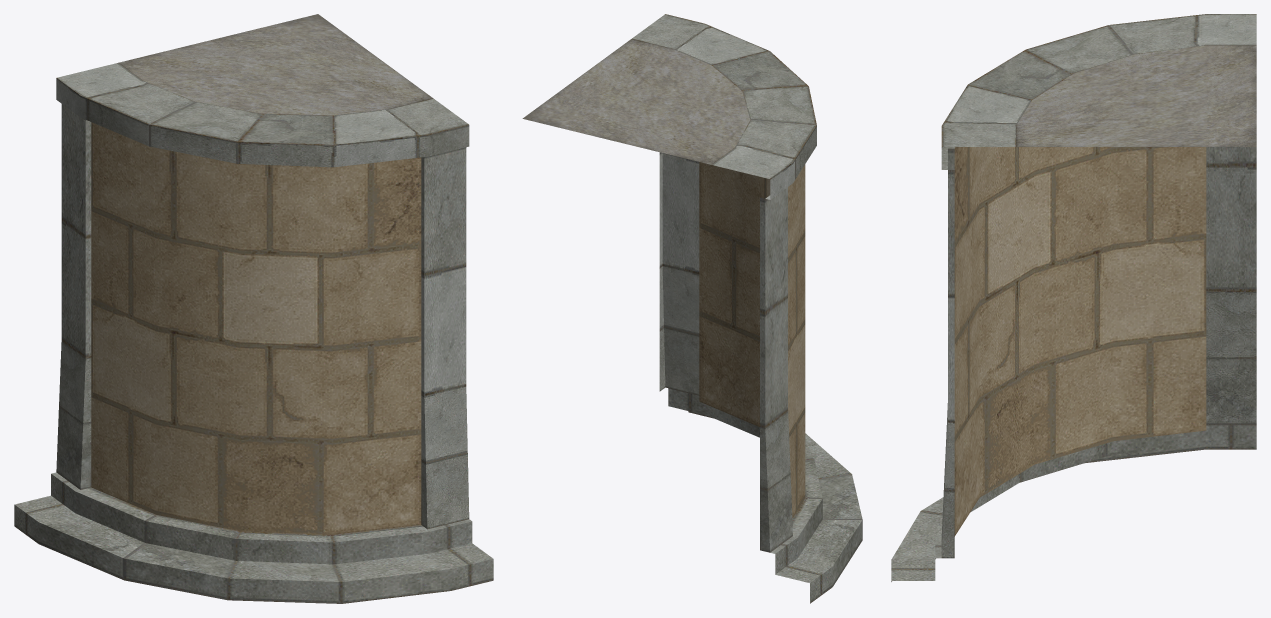
File: block_rnd_crn_1x1.fbx
3 views of the same model, side by side, from view 1: azimuth 30°, elevation 25°; view 2: azimuth 150°, elevation 25°; view 3: azimuth 270°, elevation 25° (orthographic). The views are drawn at different scales.
Visible parts, largest first — view 1: block_rnd_crn_1x1; view 2: block_rnd_crn_1x1; view 3: block_rnd_crn_1x1.
Part boxes in pixels (x1,y1,x2,y2): block_rnd_crn_1x1: [14, 14, 493, 603]; block_rnd_crn_1x1: [522, 14, 862, 603]; block_rnd_crn_1x1: [891, 14, 1256, 581].
Size of the model in its own units: 145 by 200 by 145.
